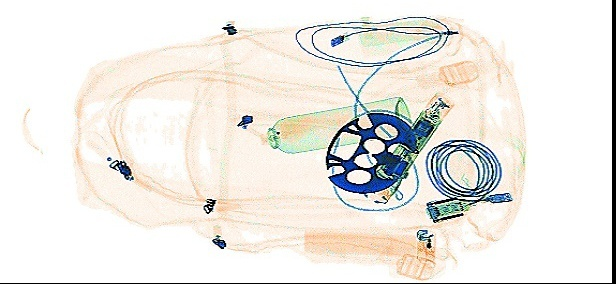lighter: (414, 227, 436, 268)
pressure: (267, 96, 412, 153)
